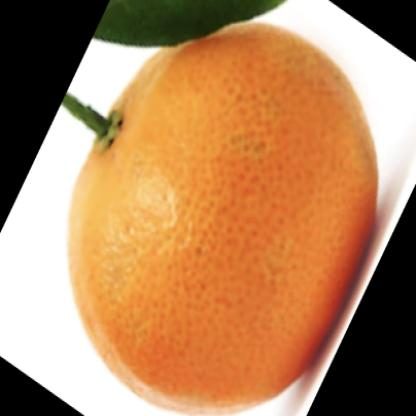fresh: (66, 15, 380, 414)
